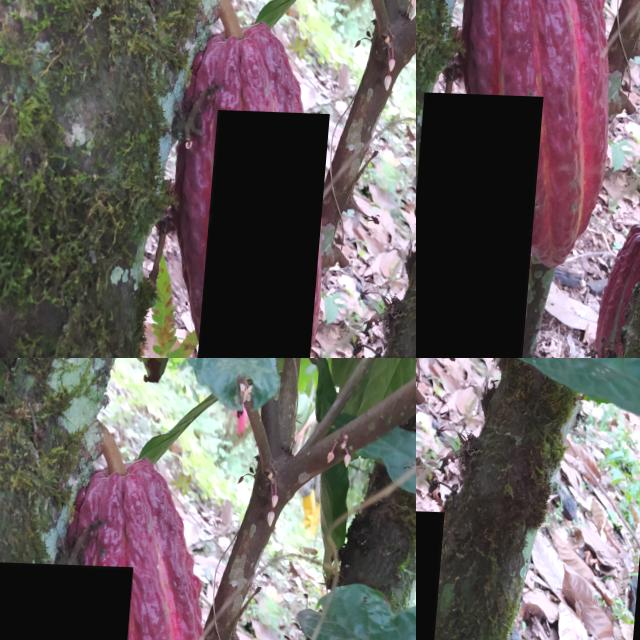Monilia: (416, 90, 549, 358)
Sana: (199, 107, 333, 358), (416, 507, 452, 640)
